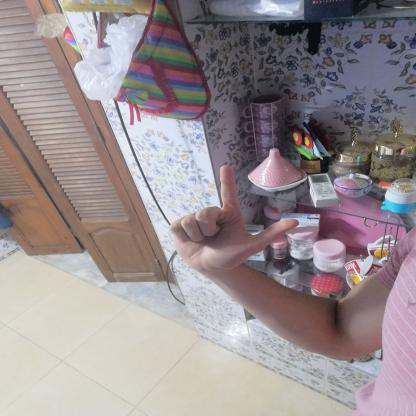LAAM: (153, 154, 311, 284)
